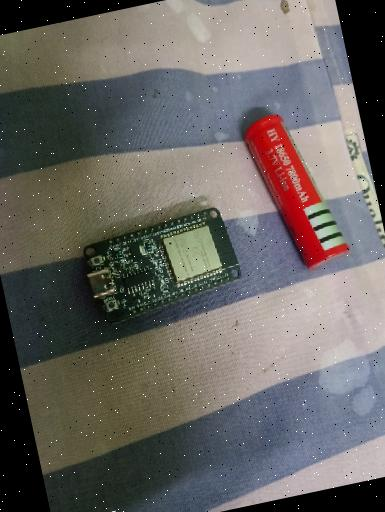Battery: (239, 104, 354, 280)
Esp32: (76, 203, 248, 330)
